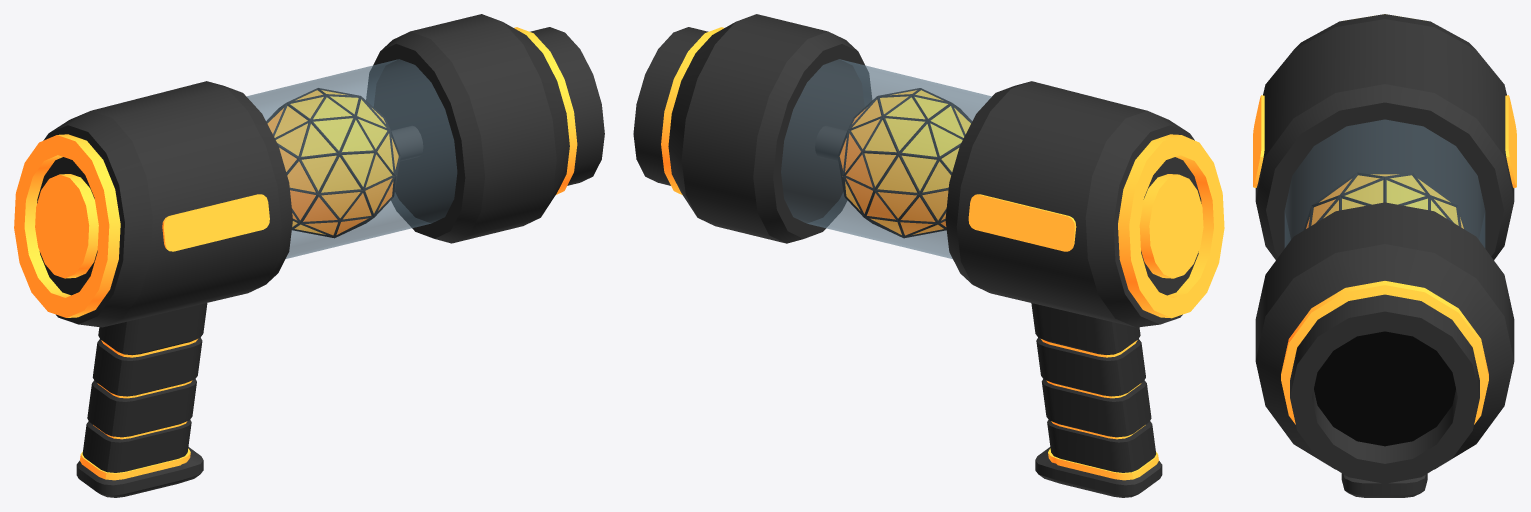
3 renders of one model, left to right at view 1: azimuth 30°, elevation 25°; view 2: azimuth 150°, elevation 25°; view 3: azimuth 270°, elevation 25°, orthographic. The views are drawn at different scales.
Parts seen in each view (by area): view 1: BodyFront, BodyBack, BodyGlass, GripBody, Icosphere, BackOuterLightRing, BackInnerLight, BackLightPlate, GripBottom, BodyFrontLightRing, GripLightRing, IcosphereCylinder (+1 smaller); view 2: BodyFront, BodyBack, BodyGlass, GripBody, Icosphere, BackOuterLightRing, BackInnerLight, BackLightPlate, GripBottom, BodyFrontLightRing, GripLightRing, IcosphereCylinder (+1 smaller); view 3: BodyBack, BodyFront, BodyGlass, BodyBlackness, Icosphere, BodyFrontLightRing, BackLightPlate, GripBottom.
Boxes of the visible parts, bbox=[...] form: BodyFront: bbox=[366, 14, 604, 243]; BodyBack: bbox=[37, 81, 292, 327]; BodyGlass: bbox=[246, 59, 456, 258]; GripBody: bbox=[82, 303, 207, 472]; Icosphere: bbox=[266, 88, 400, 238]; BackOuterLightRing: bbox=[14, 134, 120, 317]; BackInnerLight: bbox=[35, 174, 98, 278]; BackLightPlate: bbox=[162, 194, 269, 251]; GripBottom: bbox=[76, 447, 203, 497]; BodyFrontLightRing: bbox=[514, 27, 577, 194]; GripLightRing: bbox=[80, 448, 190, 480]; IcosphereCylinder: bbox=[391, 126, 423, 161]; BodyFront: bbox=[633, 14, 871, 243]; BodyBack: bbox=[945, 81, 1201, 327]; BodyGlass: bbox=[781, 59, 991, 258]; GripBody: bbox=[1031, 303, 1156, 472]; Icosphere: bbox=[837, 88, 972, 238]; BackOuterLightRing: bbox=[1118, 134, 1224, 318]; BackInnerLight: bbox=[1139, 174, 1203, 278]; BackLightPlate: bbox=[968, 194, 1076, 251]; GripBottom: bbox=[1035, 447, 1162, 497]; BodyFrontLightRing: bbox=[661, 27, 723, 194]; GripLightRing: bbox=[1048, 448, 1158, 480]; IcosphereCylinder: bbox=[815, 126, 846, 161]; BodyBack: bbox=[1255, 14, 1514, 259]; BodyFront: bbox=[1255, 202, 1514, 483]; BodyGlass: bbox=[1284, 119, 1485, 247]; BodyBlackness: bbox=[1314, 331, 1455, 446]; Icosphere: bbox=[1304, 172, 1465, 229]; BodyFrontLightRing: bbox=[1281, 281, 1488, 424]; BackLightPlate: bbox=[1253, 95, 1516, 187]; GripBottom: bbox=[1341, 473, 1427, 497].
Bounding box in the file's own units: 7.45 × 5.05 × 2.76.
